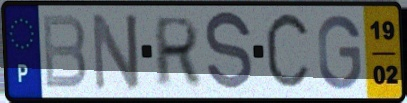B: (39, 12, 89, 91)
C: (262, 8, 313, 96)
G: (316, 12, 364, 92)
N: (90, 10, 143, 93)
R: (153, 15, 203, 90)
S: (203, 9, 256, 96)
